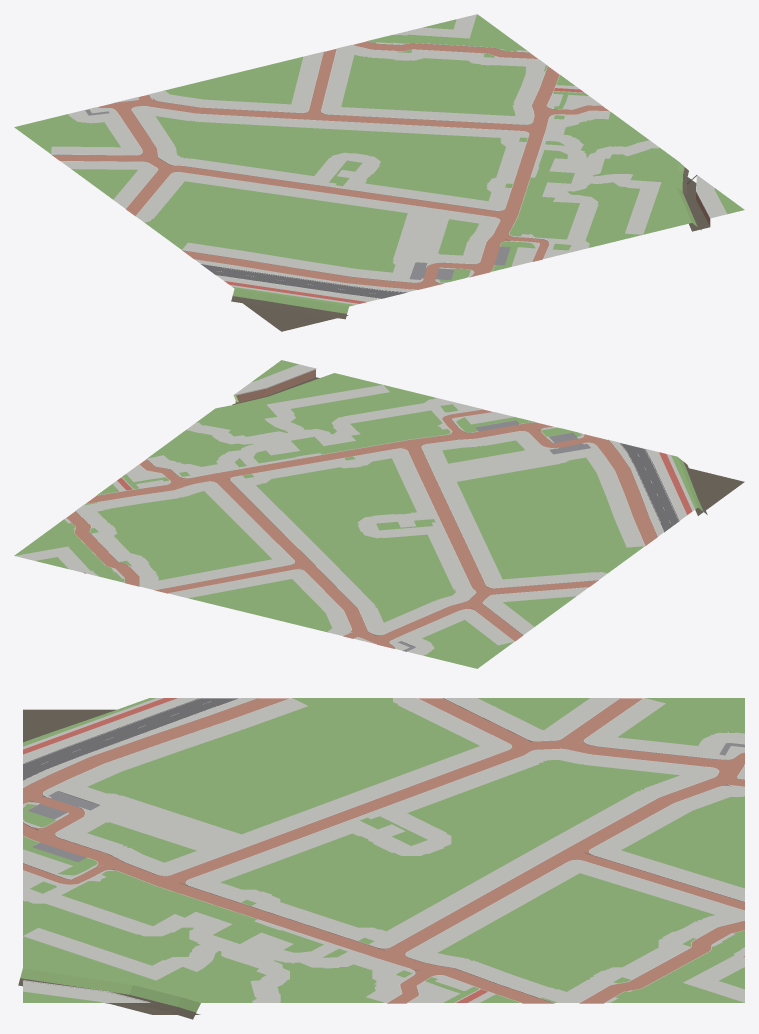
File: ground_12_9.glb
3 views of the same model, one above another, from view 1: azimuth 30°, elevation 25°; view 2: azimuth 150°, elevation 25°; view 3: azimuth 270°, elevation 25° (orthographic). The views are drawn at different scales.
Visible parts, largest first — view 1: ground_12_9; view 2: ground_12_9; view 3: ground_12_9.
Boxes of the visible parts, <box> form: ground_12_9: <box>14,14,744,331</box>; ground_12_9: <box>14,360,744,668</box>; ground_12_9: <box>18,697,744,1019</box>.
Size of the model in its own units: 206 by 3.68 by 202.
